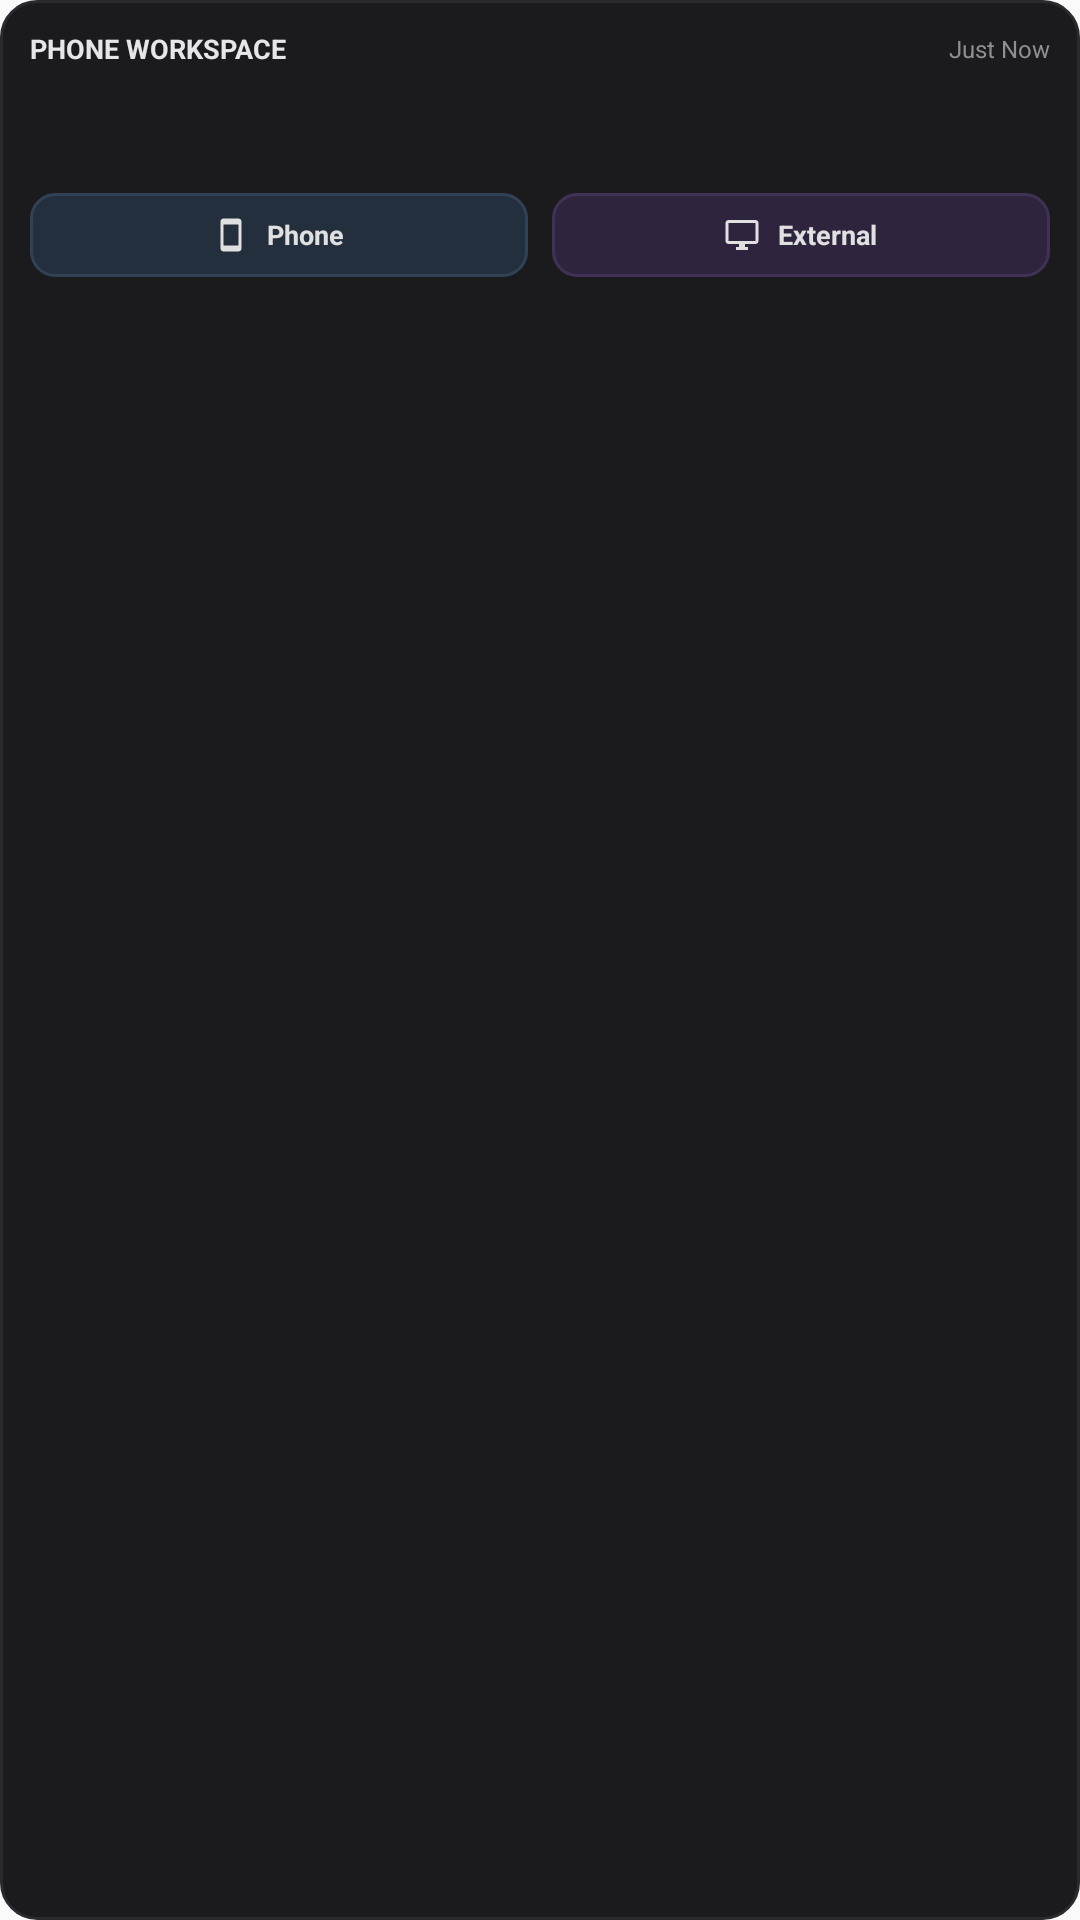

Named icons in this screenshot (1080*1920) and their centers, (x=x, y=y):
monitor monochrome: (x=742, y=235)
